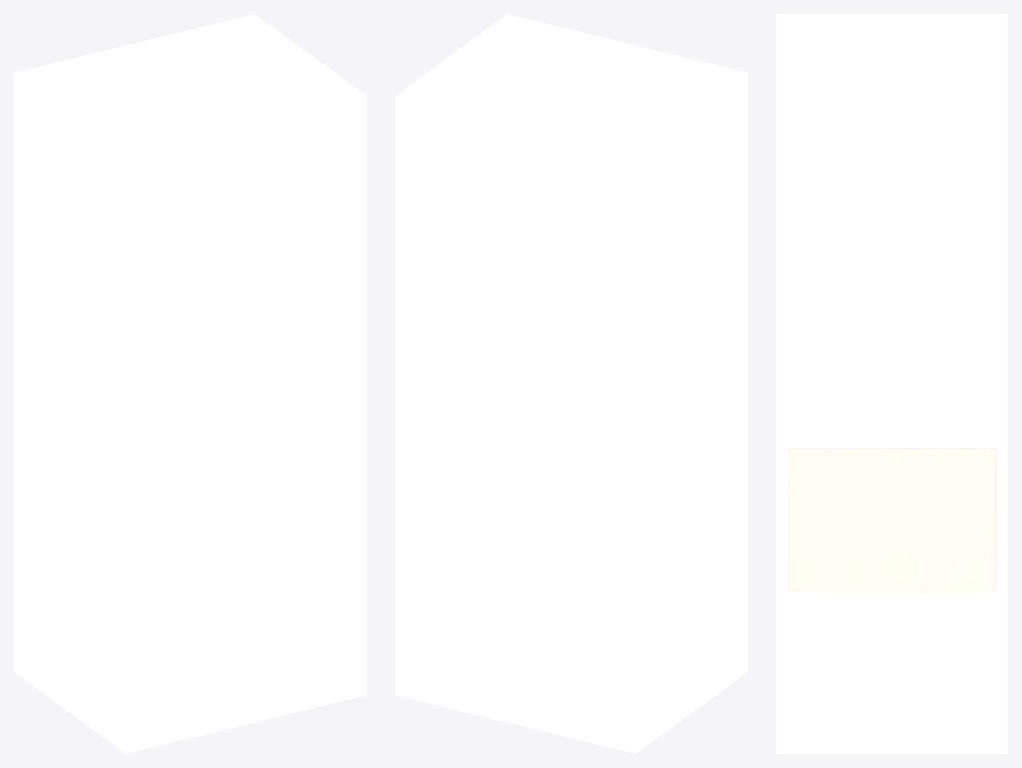
The model's file is classeur.glb.
3 views of the same model, side by side, from view 1: azimuth 30°, elevation 25°; view 2: azimuth 150°, elevation 25°; view 3: azimuth 270°, elevation 25° (orthographic). The views are drawn at different scales.
Parts seen in each view (by area): view 1: 4_Drawer_Filing_Cabinet; view 2: 4_Drawer_Filing_Cabinet; view 3: 4_Drawer_Filing_Cabinet.
Boxes of the visible parts, x1,y1,x2,y2 form: 4_Drawer_Filing_Cabinet: [14, 14, 366, 753]; 4_Drawer_Filing_Cabinet: [395, 14, 747, 753]; 4_Drawer_Filing_Cabinet: [776, 14, 1007, 753].
Size of the model in its own units: 0.4767 by 1.13 by 0.3843.
Materials: 1 (1 with a texture image).
